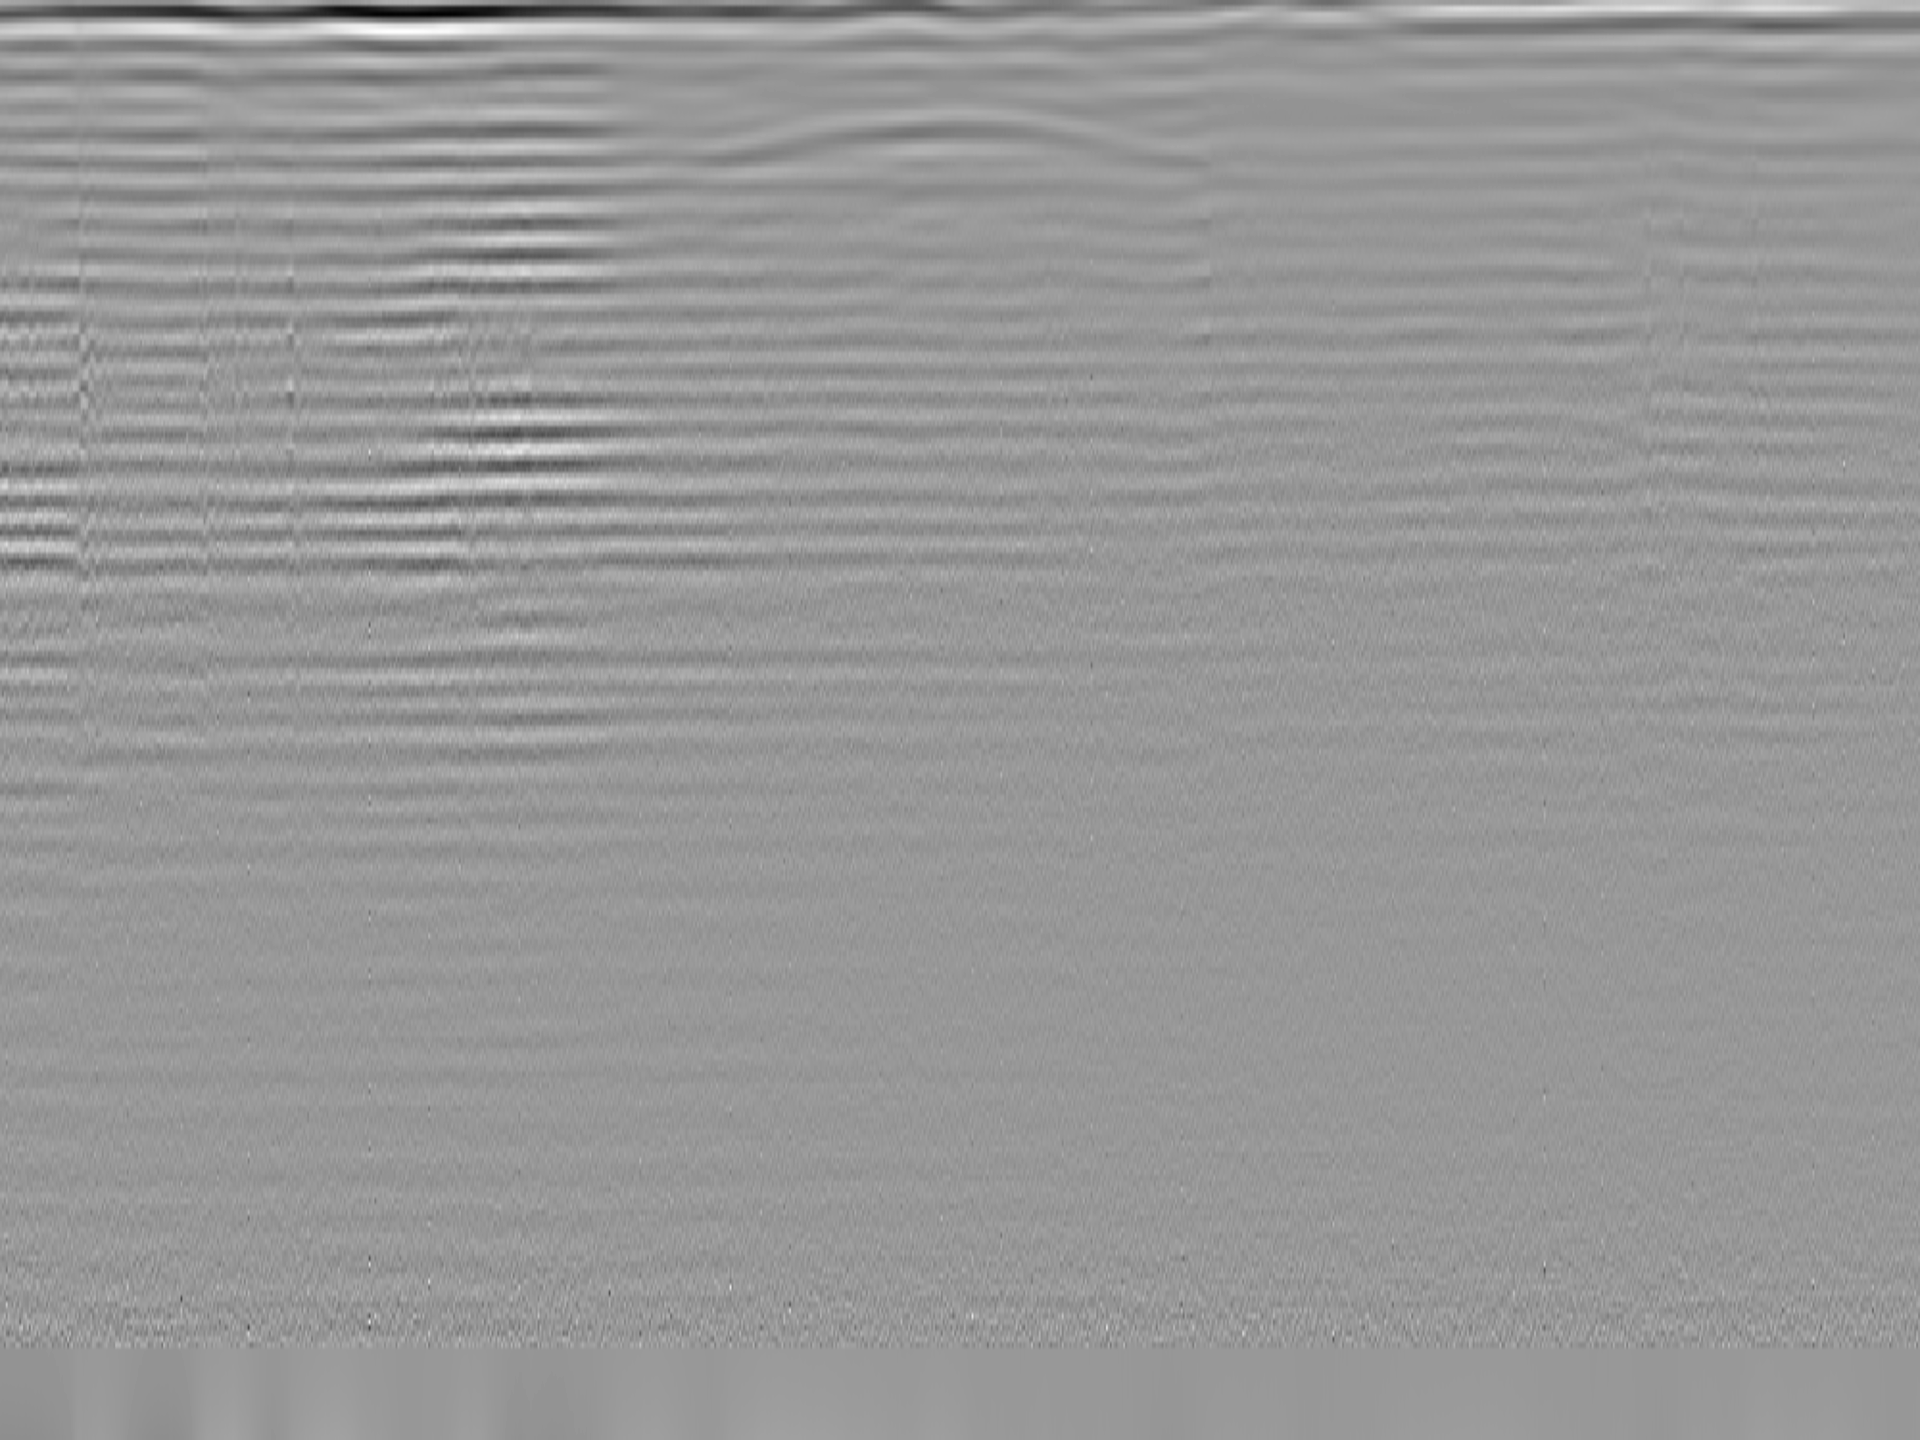Tunnel: (700, 109, 1217, 166)
